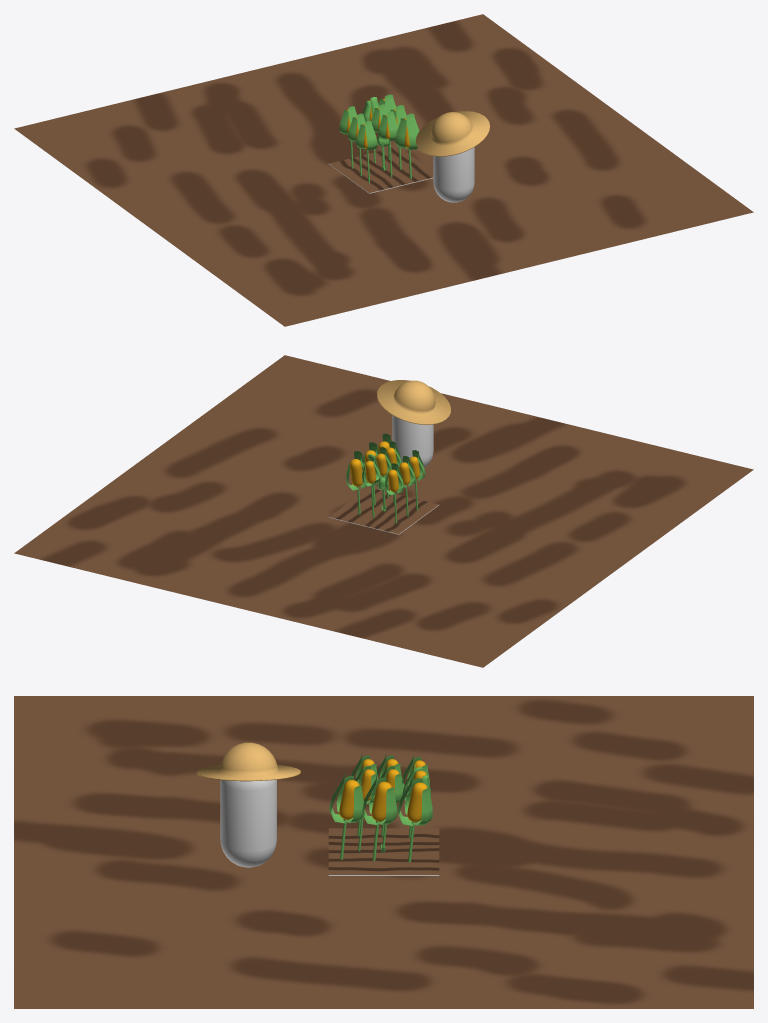
File: corn_middle.fbx
The picture shows the model from 3 angles, top to bottom: view 1: azimuth 30°, elevation 25°; view 2: azimuth 150°, elevation 25°; view 3: azimuth 270°, elevation 25°; orthographic projection. The views are drawn at different scales.
Visible parts, largest first — view 1: GroundBlock, GroundBlock.001, Sphere.001, Sphere, Corn.005, Corn.008, Corn.002; view 2: GroundBlock, GroundBlock.001, Sphere.001, Sphere, Corn.003; view 3: GroundBlock, GroundBlock.001, Sphere, Sphere.001, Corn.003, Corn.005, Corn.004, Corn.002.
Boxes of the visible parts, x1,y1,x2,y2 form: GroundBlock: (14,14,753,326); GroundBlock.001: (329,146,433,193); Sphere.001: (415,111,489,156); Sphere: (433,147,474,202); Corn.005: (395,113,419,178); Corn.008: (356,120,377,182); Corn.002: (378,111,398,177); GroundBlock: (14,355,753,667); GroundBlock.001: (329,487,438,534); Sphere.001: (377,380,450,424); Sphere: (392,415,433,467); Corn.003: (346,451,366,514); GroundBlock: (14,696,753,1008); GroundBlock.001: (328,828,439,874); Sphere: (220,779,276,867); Sphere.001: (196,742,300,781); Corn.003: (397,775,432,862); Corn.005: (329,772,364,859); Corn.004: (362,775,396,860); Corn.002: (355,764,377,851).
Size of the model in its own units: 1337 by 438 by 1337.
